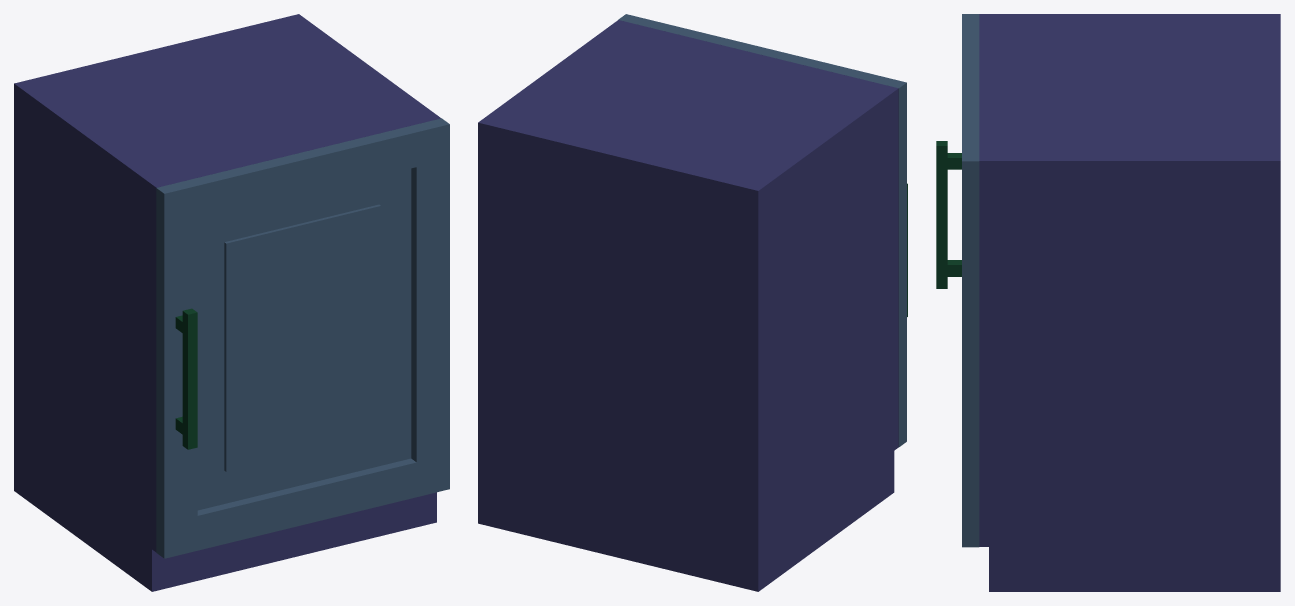
The model's file is CustomMeshCollision_Kitchen_Furniture_Counter.fbx.
The picture shows the model from 3 angles, left to right: view 1: azimuth 30°, elevation 25°; view 2: azimuth 150°, elevation 25°; view 3: azimuth 270°, elevation 25°; orthographic projection. The views are drawn at different scales.
Visible parts, largest first — view 1: CounterwithDoor_MeshCollision; view 2: CounterwithDoor_MeshCollision; view 3: CounterwithDoor_MeshCollision.
Boxes of the visible parts, bbox=[...] form: CounterwithDoor_MeshCollision: bbox=[14, 14, 449, 591]; CounterwithDoor_MeshCollision: bbox=[478, 14, 907, 591]; CounterwithDoor_MeshCollision: bbox=[936, 14, 1280, 591].
Size of the model in its own units: 60.12 by 82 by 59.45.
